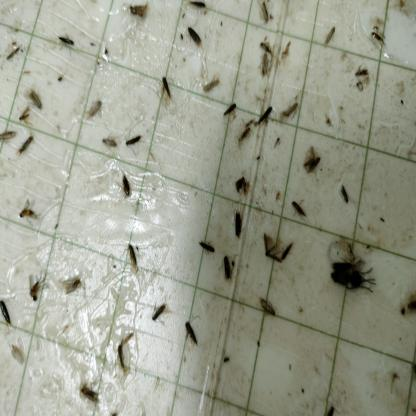prays_oleae: (111, 330, 139, 373), (181, 316, 211, 356), (299, 140, 320, 181), (262, 228, 282, 271), (25, 272, 45, 310), (198, 72, 224, 101), (257, 292, 279, 322), (27, 85, 47, 117), (127, 241, 144, 274), (86, 94, 104, 125), (17, 199, 40, 223), (370, 22, 387, 54), (98, 130, 118, 156), (58, 274, 81, 296), (404, 286, 416, 326), (0, 295, 14, 329), (259, 54, 274, 85), (5, 39, 24, 63), (280, 97, 295, 126), (223, 253, 234, 292), (128, 2, 149, 22), (323, 21, 341, 44), (161, 75, 177, 100), (260, 1, 273, 31), (149, 302, 170, 320), (291, 192, 304, 221), (259, 35, 274, 60), (123, 171, 134, 205), (232, 207, 246, 233), (220, 103, 240, 121), (58, 32, 76, 52), (187, 19, 200, 46), (82, 383, 99, 403), (352, 62, 369, 82), (256, 109, 276, 125), (0, 126, 15, 147), (188, 1, 208, 16), (18, 142, 41, 155), (340, 179, 350, 208), (200, 239, 216, 257), (282, 245, 296, 265), (125, 134, 141, 150), (19, 102, 31, 123)
